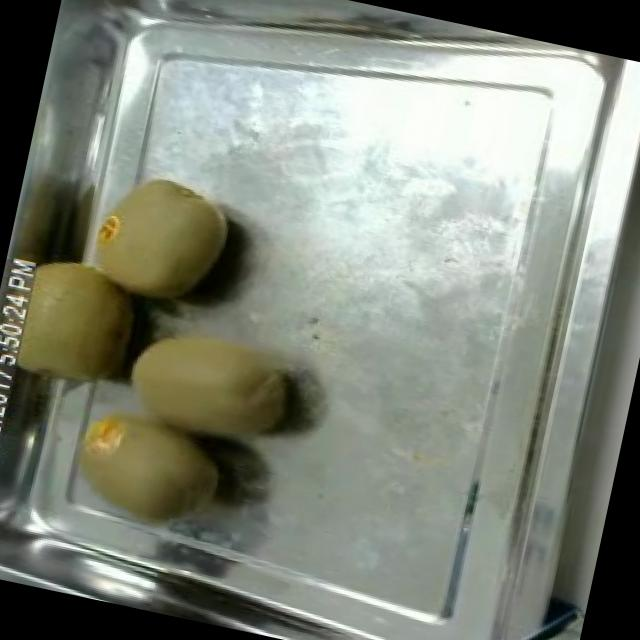Fruit: (105, 299, 324, 472), (68, 150, 248, 328), (60, 397, 250, 553), (0, 239, 148, 402), (616, 59, 640, 153)
